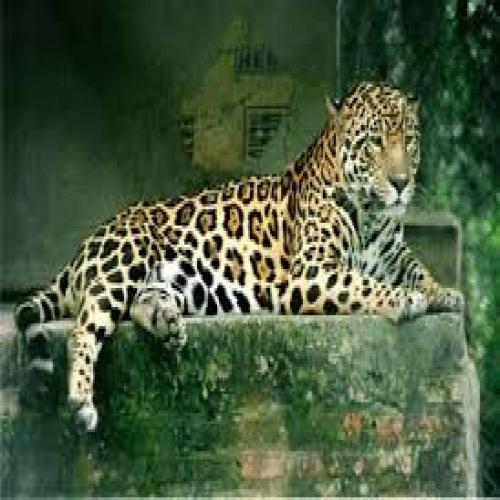jaguar_not-endangered: (19, 76, 463, 438)
